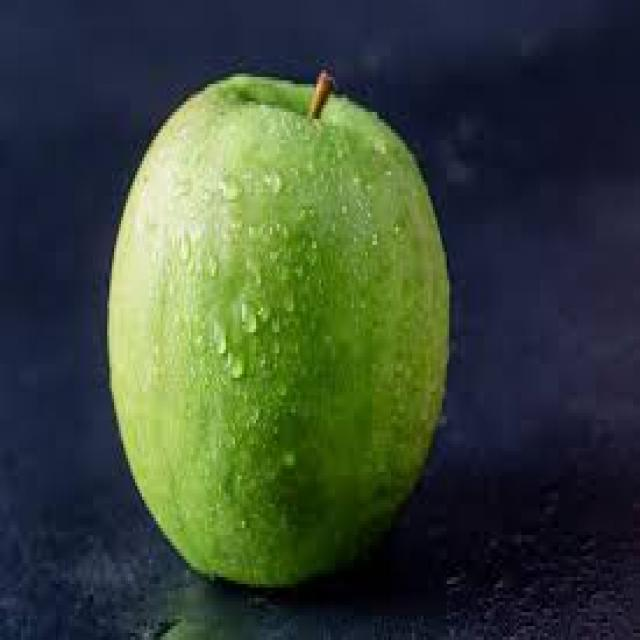Fresh Apple: (118, 83, 447, 582)
